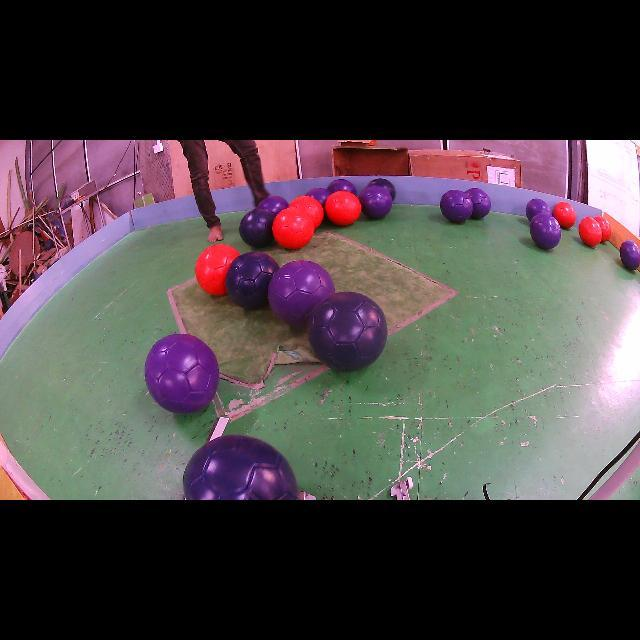B: (182, 435, 299, 500), (308, 291, 388, 371), (225, 251, 279, 310), (239, 209, 275, 248), (368, 179, 396, 200)
P: (145, 334, 220, 414), (268, 260, 335, 327), (530, 212, 561, 249), (359, 185, 392, 219), (440, 190, 472, 223), (465, 188, 491, 219), (258, 195, 289, 215), (620, 240, 640, 270), (526, 199, 551, 221), (306, 188, 331, 208), (328, 179, 356, 195)
R: (195, 244, 240, 296), (272, 206, 315, 249), (325, 190, 361, 225), (289, 196, 324, 229), (579, 216, 602, 246), (554, 201, 576, 229), (594, 216, 611, 242)
